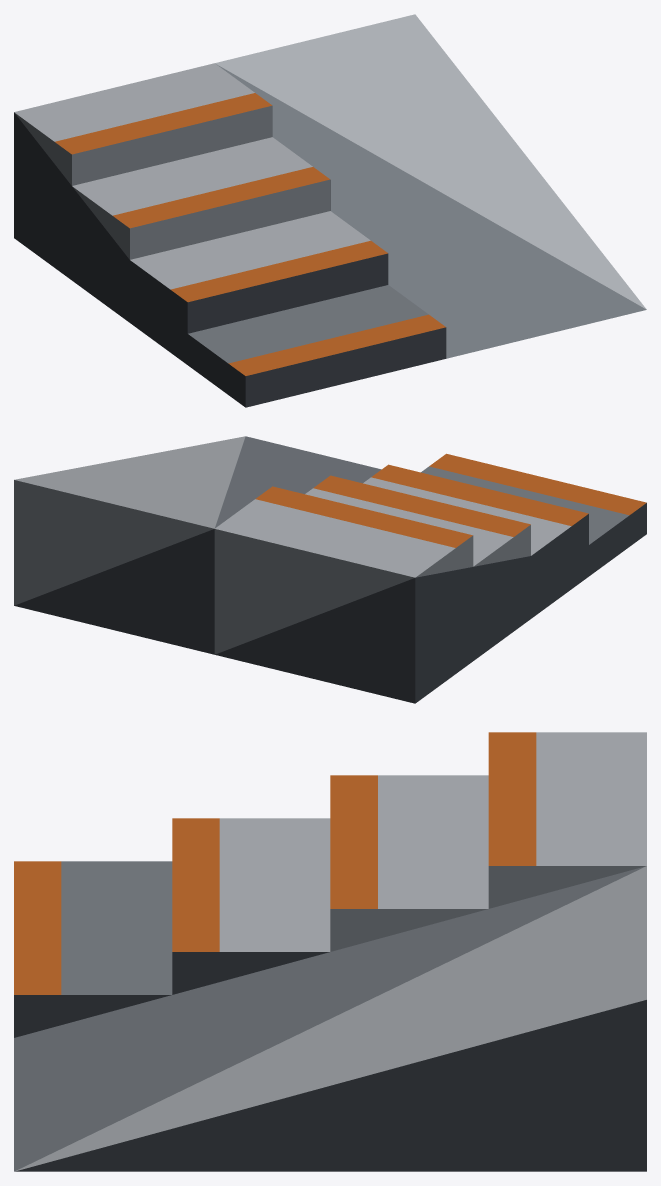
File: Kit_stairs-ramp.fbx
3 renders of one model, top to bottom at view 1: azimuth 30°, elevation 25°; view 2: azimuth 150°, elevation 25°; view 3: azimuth 270°, elevation 25°, orthographic. The views are drawn at different scales.
Parts seen in each view (by area): view 1: Kit_stairs-ramp; view 2: Kit_stairs-ramp; view 3: Kit_stairs-ramp.
Boxes of the visible parts, left/top/right/bottom form: Kit_stairs-ramp: left=14, top=14, right=646, bottom=407; Kit_stairs-ramp: left=14, top=436, right=646, bottom=703; Kit_stairs-ramp: left=14, top=732, right=646, bottom=1171.
Bounding box in the file's own units: 1 × 0.3 × 1.
